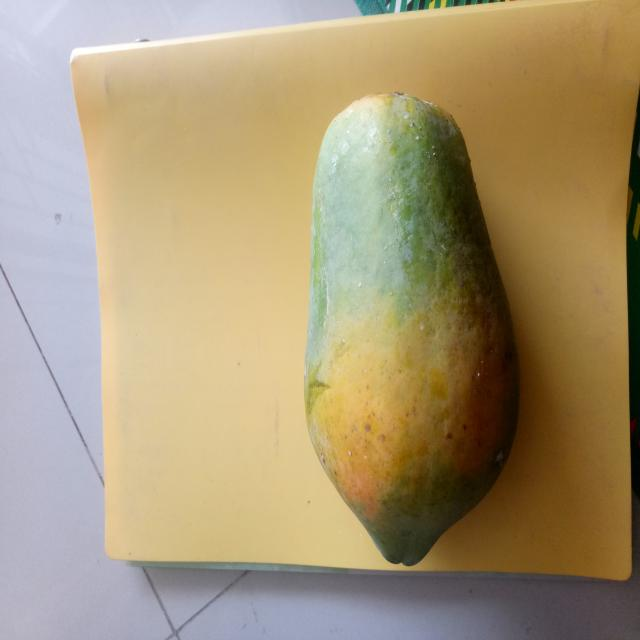Pepaya rippen: (288, 92, 522, 573)
